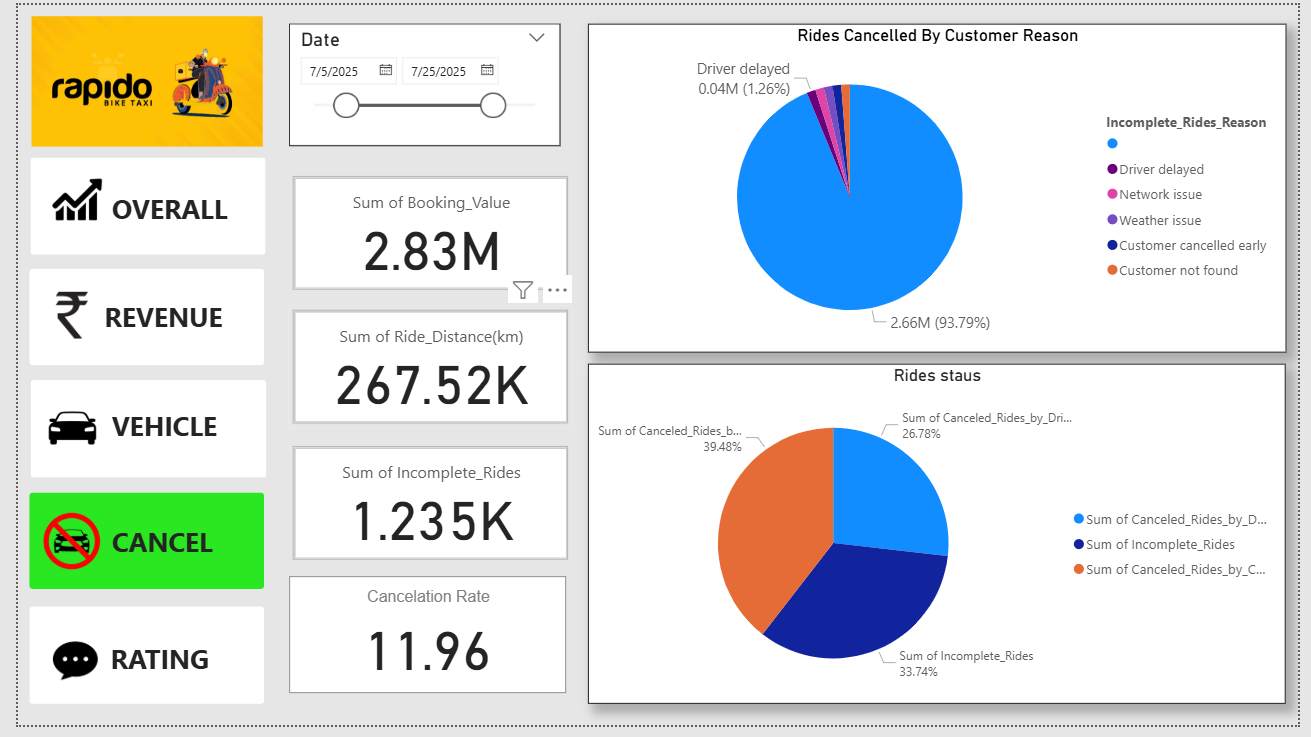

The dashboard page shown, as its layout file describes it:
{"tool":"powerbi","page":{"name":"cancel","canvas":[1280,720],"ordinal":2},"visuals":[{"type":"image","box":[8.7,0,240.9,152.4],"z":0},{"type":"shape","box":[13.1,152.4,235.1,97.2],"z":1000},{"type":"shape","box":[11.6,264,234.9,96.5],"z":2000},{"type":"shape","box":[12.8,374.4,236,97.7],"z":3000},{"type":"shape","box":[11.6,487.2,234.9,96.5],"z":4000},{"type":"shape","box":[11.6,601.2,234.9,97.7],"z":5000},{"type":"image","box":[7.3,61,103,267],"z":6000},{"type":"image","box":[18.6,274.3,70,72.9],"z":7000},{"type":"image","box":[20.9,384.9,66.3,75.6],"z":8000},{"type":"image","box":[14,482.6,80.2,107],"z":9000},{"type":"image","box":[22.9,614.3,70,84.3],"z":10000},{"type":"textbox","box":[88.4,180.2,143,47.7],"z":11000},{"type":"textbox","box":[81.4,288.4,150,47.7],"z":12000},{"type":"textbox","box":[88.4,397.7,150,52.3],"z":13000},{"type":"textbox","box":[88.4,514,150,45.3],"z":14000},{"type":"textbox","box":[87.2,630.2,150,52.3],"z":15000},{"type":"shape","box":[270.9,18.6,270.9,122.1],"z":16000},{"type":"slicer","fields":{"Values":["rapido_july2025_data.Date"]},"box":[269.8,19,269.8,255.6],"z":17000},{"type":"cardVisual","fields":{"Data":["Sum(rapido_july2025_data.Booking_Value)"]},"box":[269.8,166.7,285.7,123.8],"z":18000},{"type":"cardVisual","fields":{"Data":["Sum(rapido_july2025_data.Ride_Distance(km))"]},"box":[270,300.2,285.1,123.4],"z":19000},{"type":"cardVisual","fields":{"Data":["Sum(rapido_july2025_data.Incomplete_Rides)"]},"box":[270,435.9,285.1,123.4],"z":20000},{"type":"card","title":"Cancelation Rate","fields":{"Values":["Avg(rapido_july2025_data.Canceled_Percentage)"]},"box":[271.4,571.6,276.9,116.5],"z":21000},{"type":"pieChart","title":"Rides Cancelled By Customer Reason","fields":{"Category":["rapido_july2025_data.Incomplete_Rides_Reason"],"Y":["Sum(rapido_july2025_data.Booking_Value)"]},"box":[569.8,19,698.4,328.6],"z":22000},{"type":"pieChart","title":"Rides staus","fields":{"Y":["Sum(rapido_july2025_data.Canceled_Rides_by_Driver)","Sum(rapido_july2025_data.Incomplete_Rides)","Sum(rapido_july2025_data.Canceled_Rides_by_Customer)"]},"box":[570.3,358.7,697.2,340.3],"z":23000}]}

Visuals, with their boxes in screenshot pixels (x1, y1, x2, y2), scaled from the page's 1280x720 canvas onto the 1311x737 screenshot:
image: <box>9,0,256,156</box>
shape: <box>13,156,254,255</box>
shape: <box>12,270,252,369</box>
shape: <box>13,383,255,483</box>
shape: <box>12,499,252,597</box>
shape: <box>12,615,252,715</box>
image: <box>7,62,113,336</box>
image: <box>19,281,91,355</box>
image: <box>21,394,89,471</box>
image: <box>14,494,96,604</box>
image: <box>23,629,95,715</box>
textbox: <box>91,184,237,233</box>
textbox: <box>83,295,237,344</box>
textbox: <box>91,407,244,461</box>
textbox: <box>91,526,244,573</box>
textbox: <box>89,645,243,699</box>
shape: <box>277,19,555,144</box>
slicer - rapido_july2025_data.Date: <box>276,19,553,281</box>
cardVisual - Sum(rapido_july2025_data.Booking_Value): <box>276,171,569,297</box>
cardVisual - Sum(rapido_july2025_data.Ride_Distance(km)): <box>277,307,569,434</box>
cardVisual - Sum(rapido_july2025_data.Incomplete_Rides): <box>277,446,569,573</box>
"Cancelation Rate" card: <box>278,585,562,704</box>
"Rides Cancelled By Customer Reason" pieChart: <box>584,19,1299,356</box>
"Rides staus" pieChart: <box>584,367,1298,716</box>
